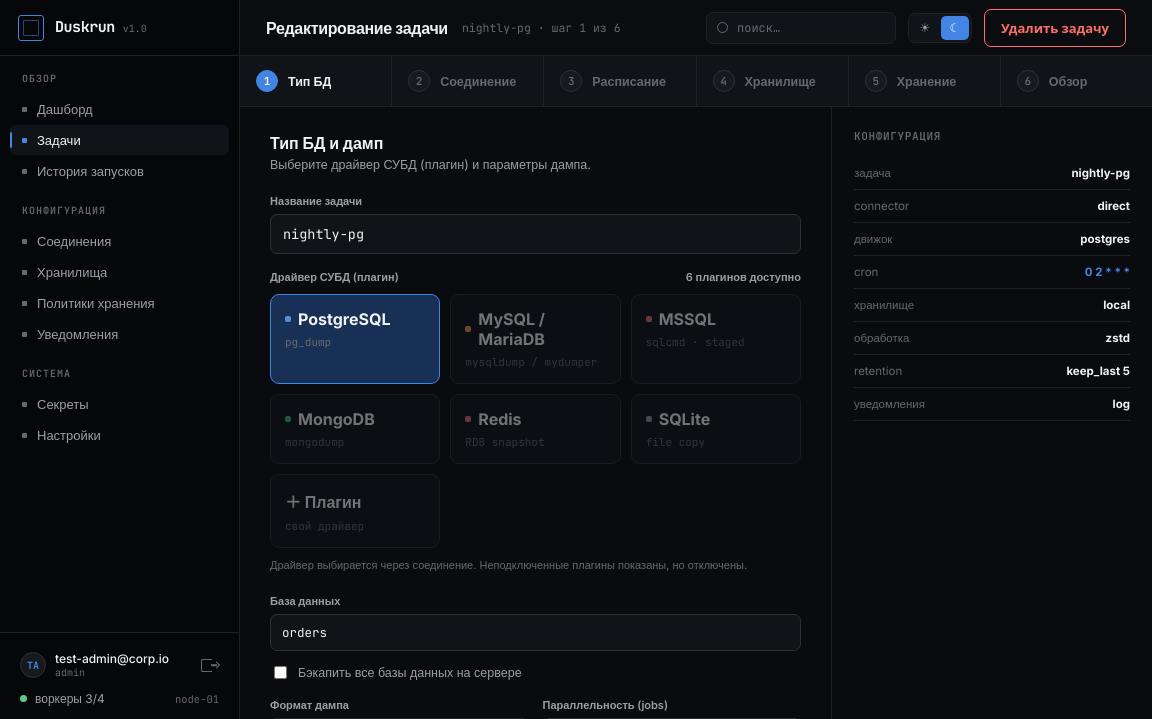
it: TestTaskEditorWarnsOnNoPolicy: switching the active rule off means nothing is ever pruned
Click the text "Хранение": (926, 81) [897,74,956,88]
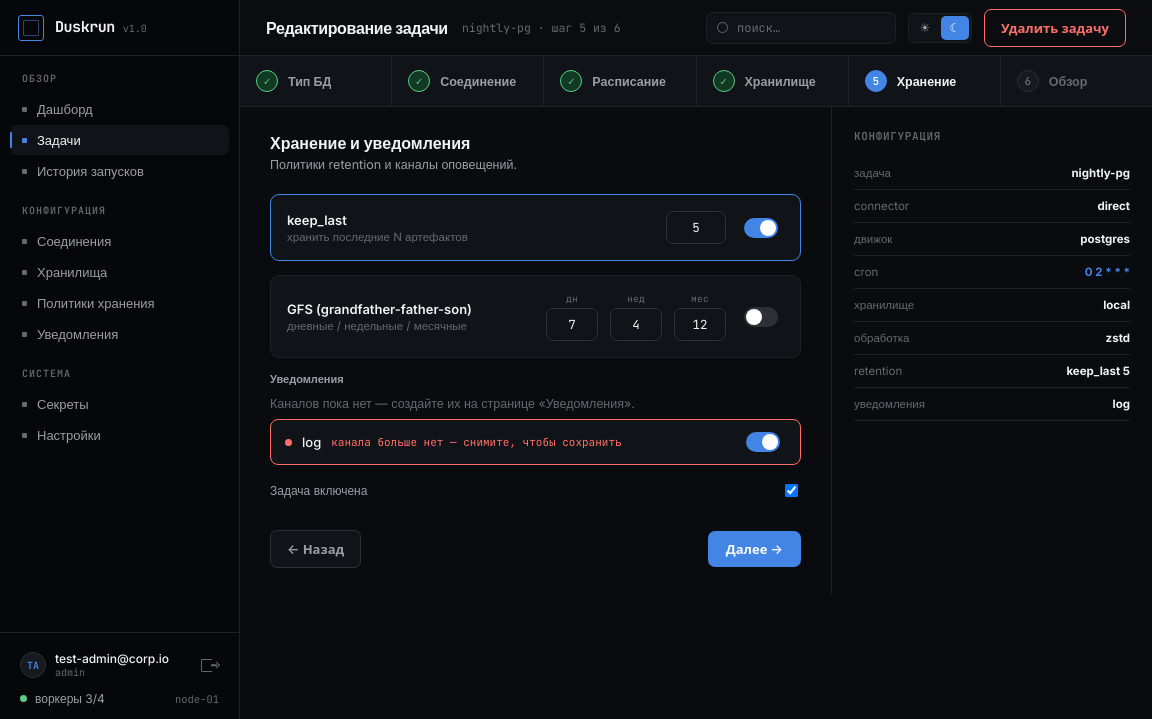
Expected: the text "не будут удаляться" is not shown
Switching the only armed rule off is allowed — it just cannot be quiet.
Click the switch named "Правило: keep_last": (761, 228) [738,216,784,238]
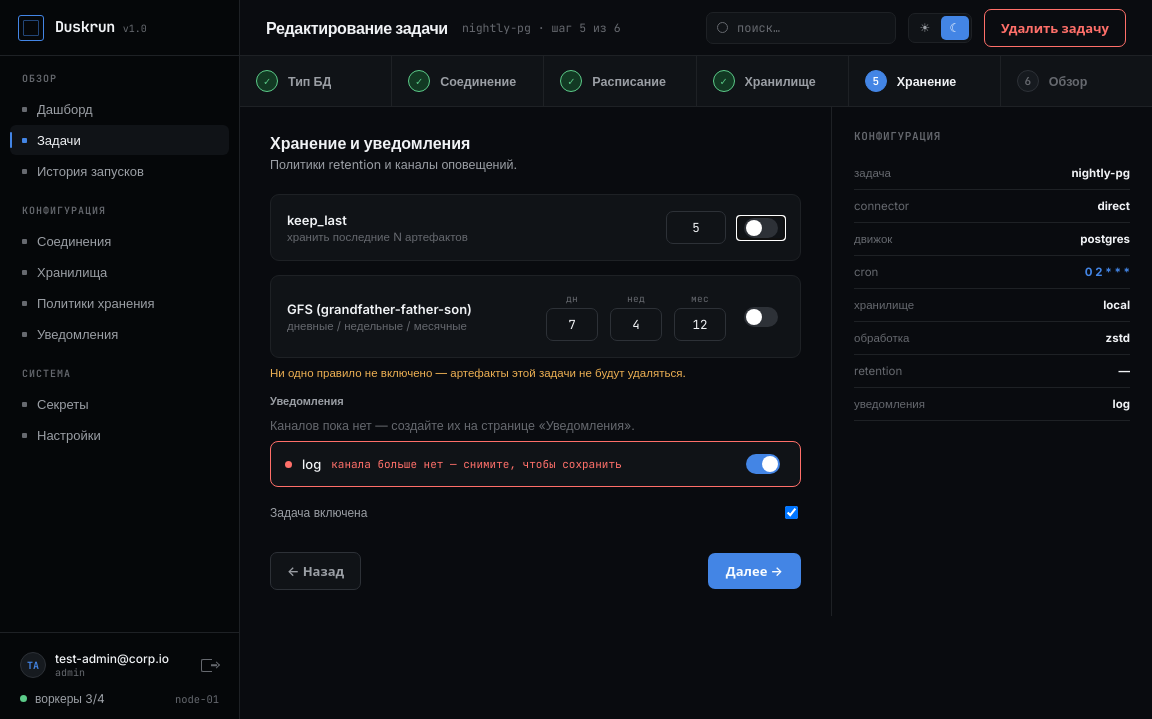
Result: the text "не будут удаляться" is shown at [270,366,686,380]
